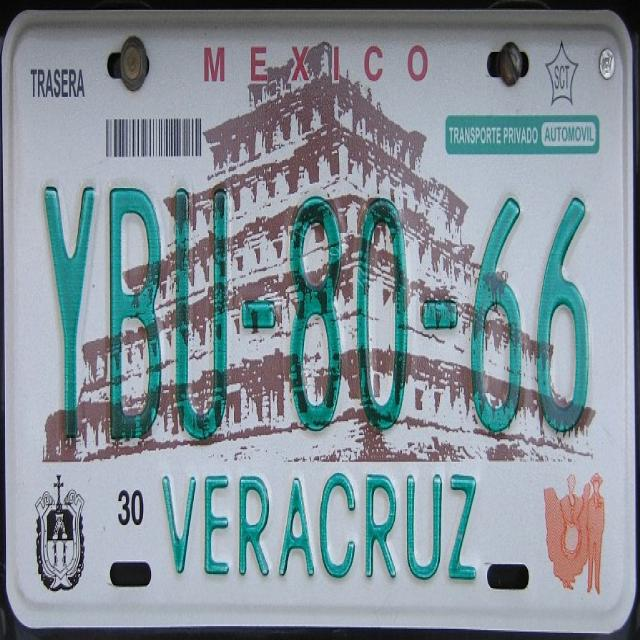placa: (21, 159, 617, 445)
